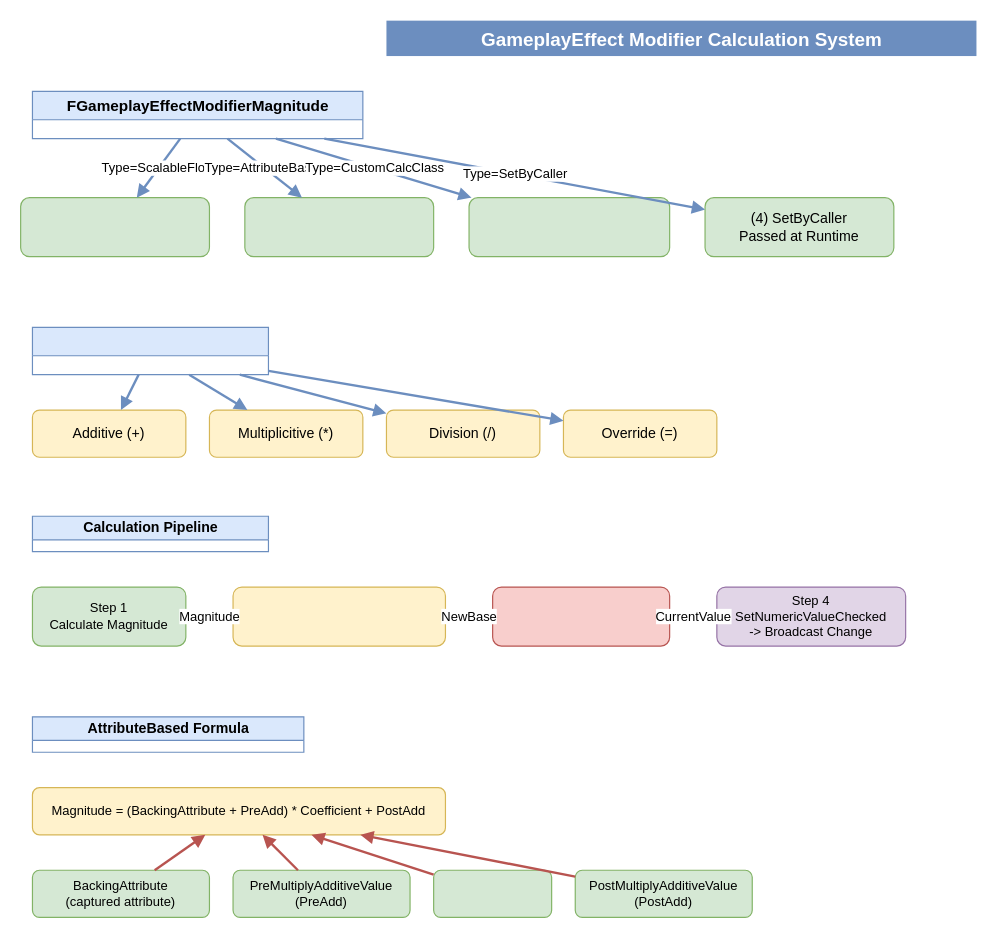
Image size: 997x938. Some labels were removed from this diagram. Here are the shapes that lost their labels. From the top down, the box of each, then its label:
(19, 196, 209, 257): (1) ScalableFloat Fixed Value / CurveTable
(244, 196, 434, 257): (2) AttributeBased Based on Attribute
(468, 196, 670, 257): (3) CustomCalculationClass Custom MMC
(31, 326, 268, 375): EGameplayModOp
(232, 586, 445, 646): Step 2 StaticExecModOnBaseValue (BaseValue, ModOp, Magnitude)
(491, 586, 670, 646): Step 3 Dirty -> EvaluateWithBase -> CurrentValue
(432, 869, 552, 917): Coefficient
